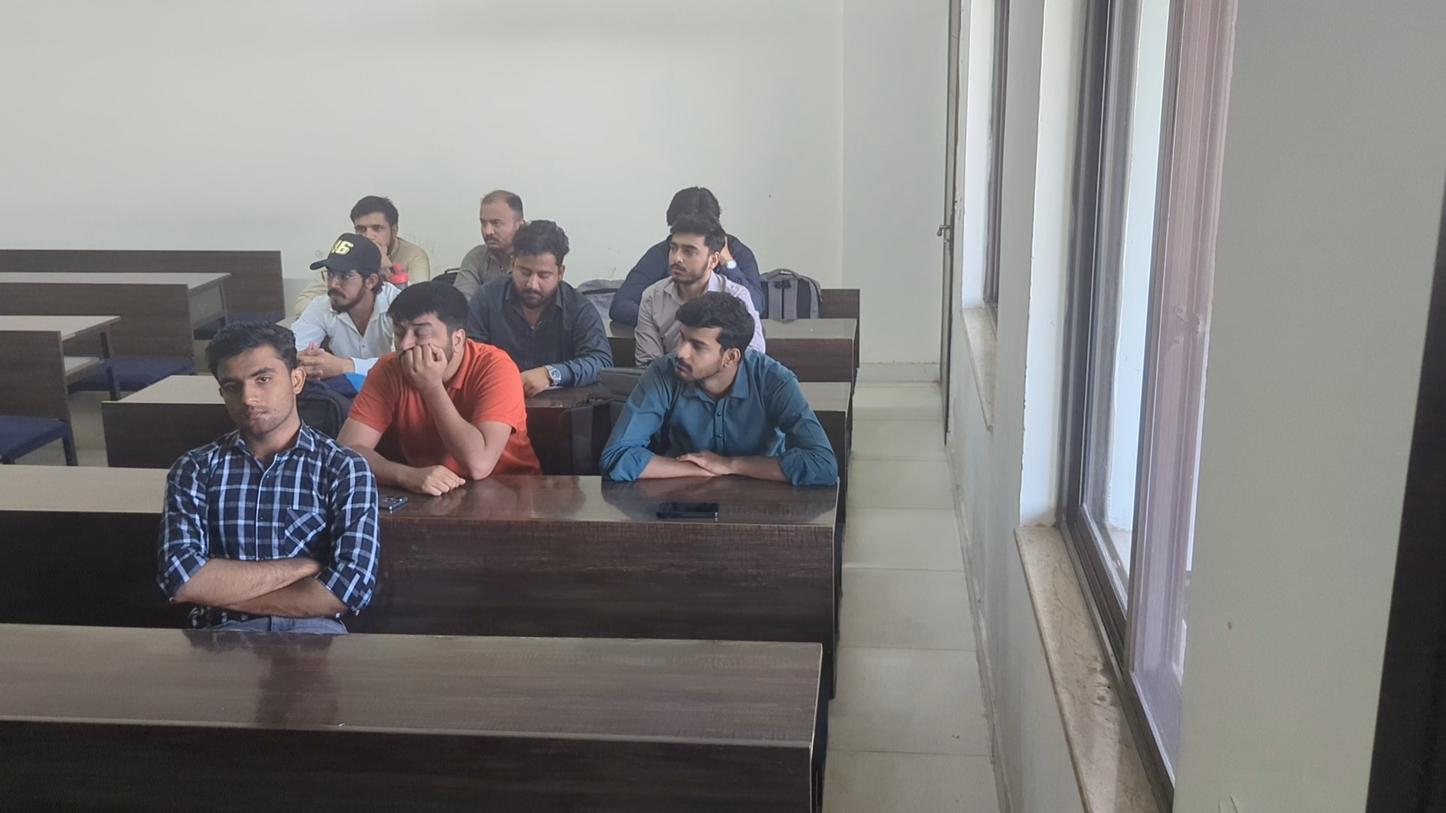look_forward: (156, 315, 381, 631), (601, 291, 838, 486), (295, 233, 394, 374), (637, 206, 754, 315), (459, 188, 524, 284)
sleep: (342, 283, 519, 494)
write: (482, 217, 612, 396)
